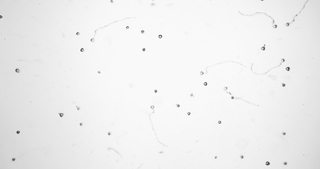germinated: (89, 31, 96, 42), (285, 18, 294, 26), (199, 68, 209, 75), (277, 57, 285, 65), (148, 105, 156, 113), (271, 19, 278, 28), (223, 85, 230, 94), (230, 95, 240, 100), (74, 103, 81, 110)
nongerminated: (78, 46, 86, 54), (157, 32, 164, 41), (264, 158, 271, 166), (201, 80, 209, 87), (58, 110, 65, 118), (284, 65, 291, 72), (238, 152, 245, 159), (152, 87, 159, 94), (139, 28, 146, 35), (77, 120, 84, 127), (13, 66, 20, 73), (14, 129, 21, 136), (74, 30, 80, 38), (105, 130, 113, 136), (281, 81, 287, 88), (175, 102, 181, 109), (212, 154, 219, 160), (140, 46, 147, 52), (95, 70, 102, 76), (11, 156, 18, 162), (260, 45, 266, 51), (281, 130, 287, 136), (217, 118, 223, 124), (189, 91, 195, 97), (186, 110, 192, 116), (124, 23, 130, 29), (282, 161, 288, 166)
